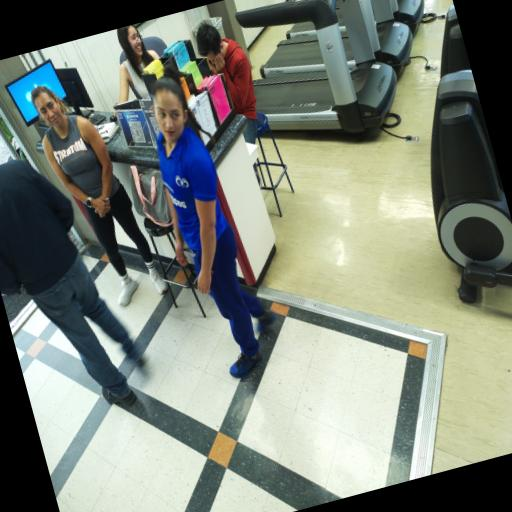person: (152, 69, 274, 377), (0, 161, 141, 404), (31, 86, 167, 305), (197, 23, 257, 143), (117, 25, 159, 103)
